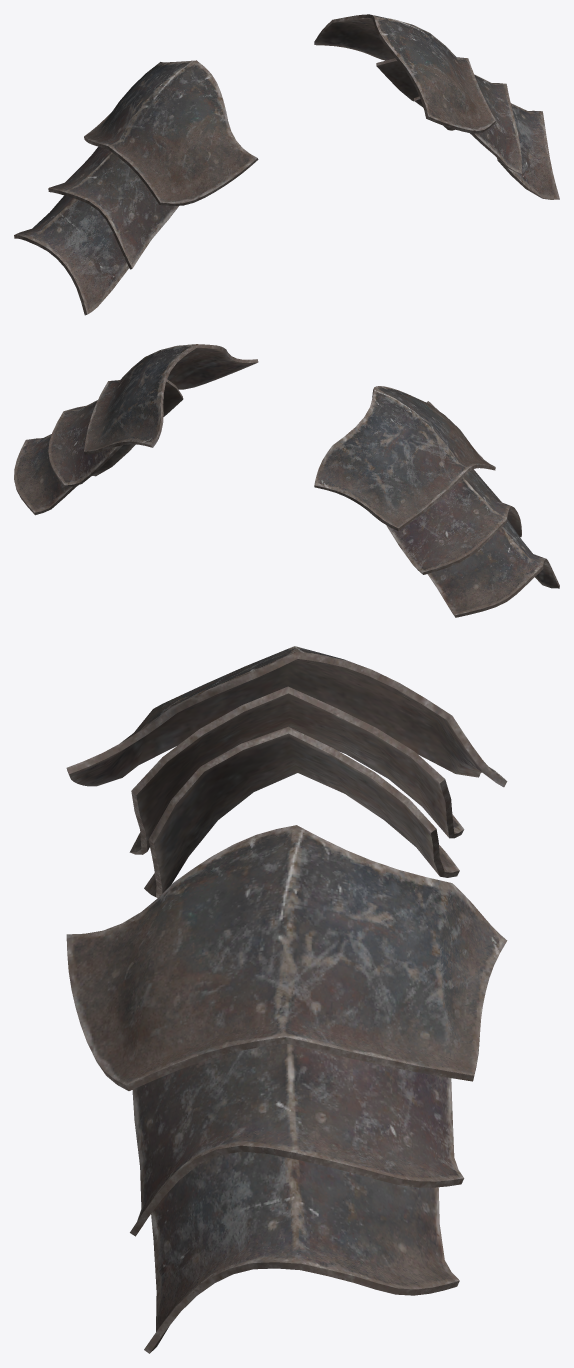
The model's file is sk_dg_uruk_pauldron_elite_a.fbx.
3 views of the same model, one above another, from view 1: azimuth 30°, elevation 25°; view 2: azimuth 150°, elevation 25°; view 3: azimuth 270°, elevation 25° (orthographic). The views are drawn at different scales.
Visible parts, largest first — view 1: sk_dg_uruk_pauldron_elite_a; view 2: sk_dg_uruk_pauldron_elite_a; view 3: sk_dg_uruk_pauldron_elite_a.
Part boxes in pixels (left/top/right/bottom): sk_dg_uruk_pauldron_elite_a: left=14, top=14, right=559, bottom=315; sk_dg_uruk_pauldron_elite_a: left=14, top=344, right=559, bottom=617; sk_dg_uruk_pauldron_elite_a: left=66, top=646, right=507, bottom=1353.
Bounding box in the file's own units: 0.8427 × 0.3109 × 0.2986.
1 material, 1 textured.
